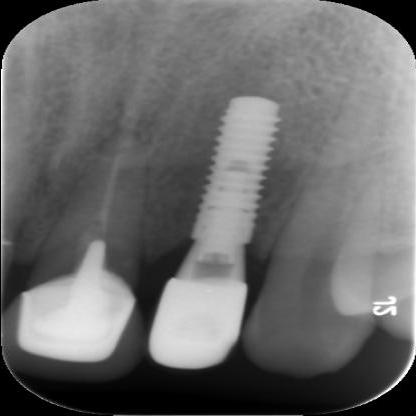ITI: (176, 90, 298, 264)
